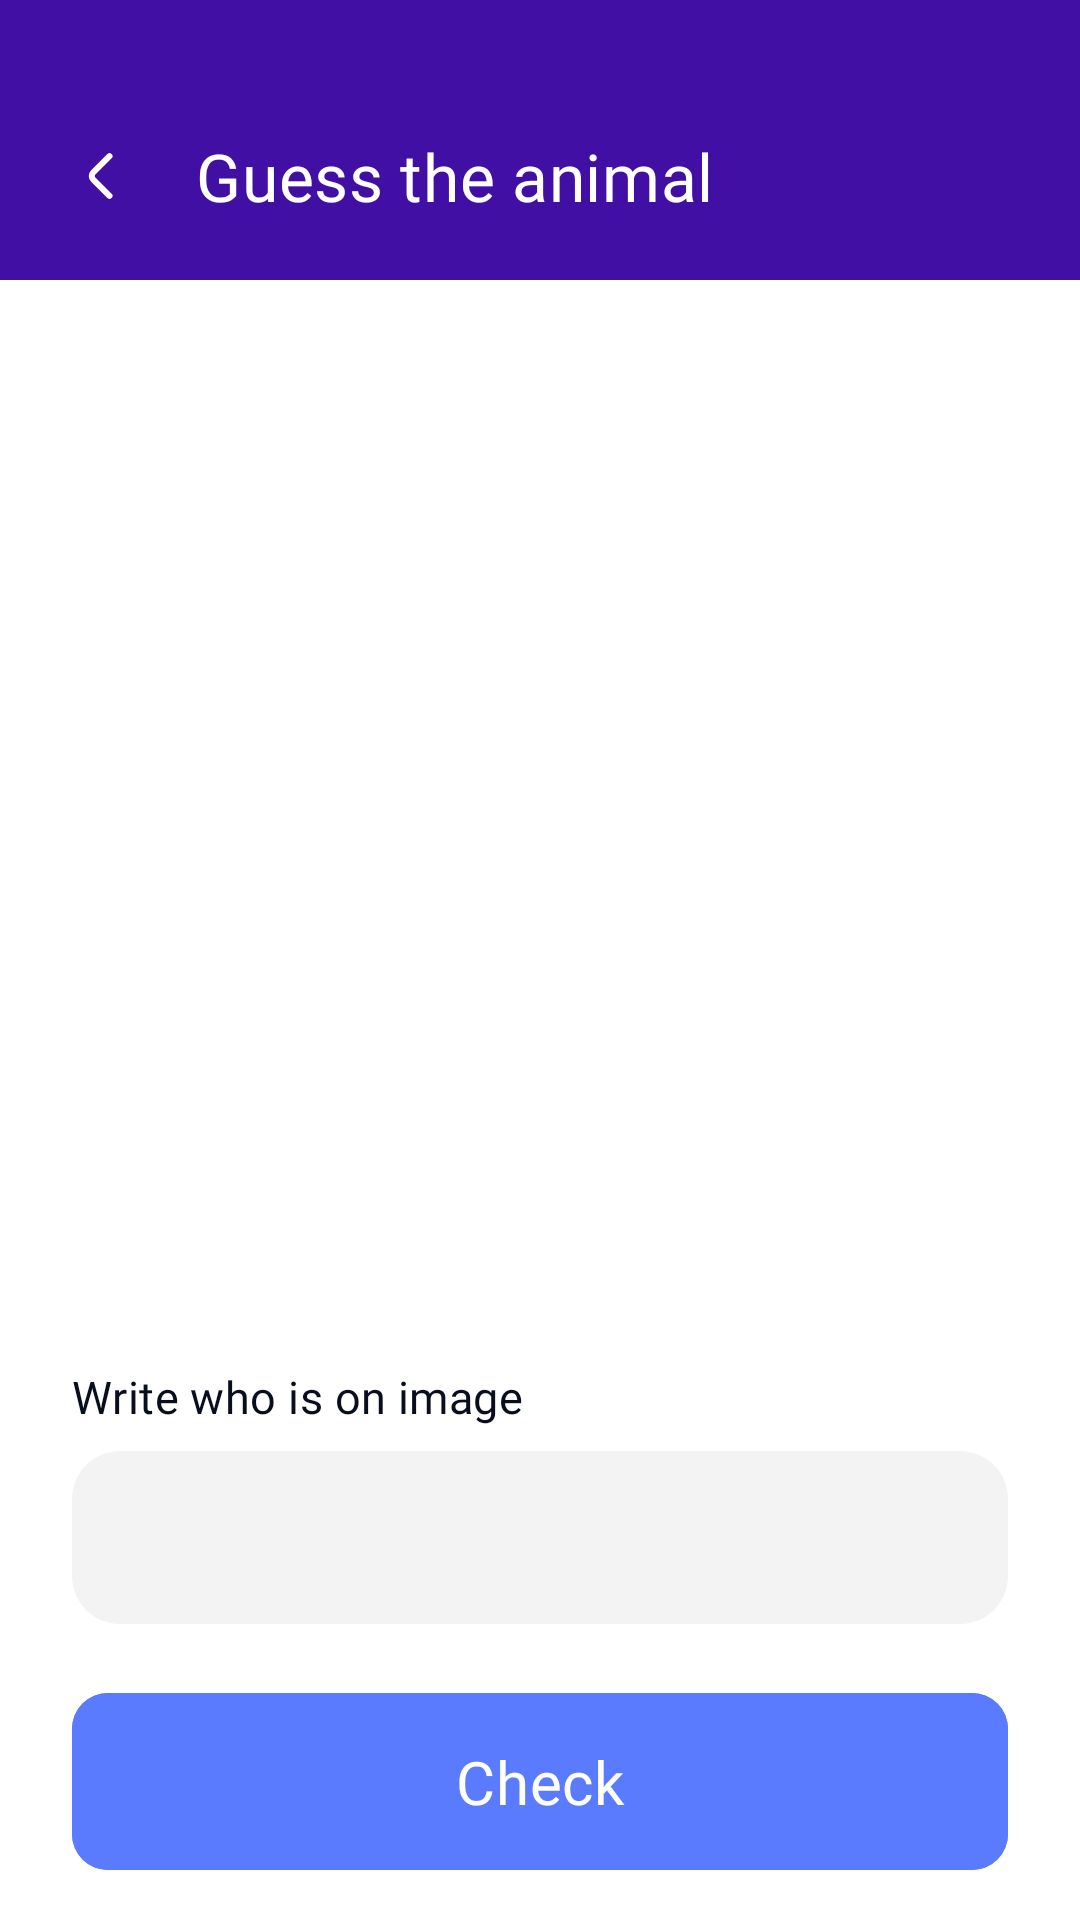

Locate icon controls on the screen. Image size 1080×1920, boxes as [x1=x1, y1=y1, x2=x2, y2=y2].
back: [x1=88, y1=153, x2=113, y2=199]
